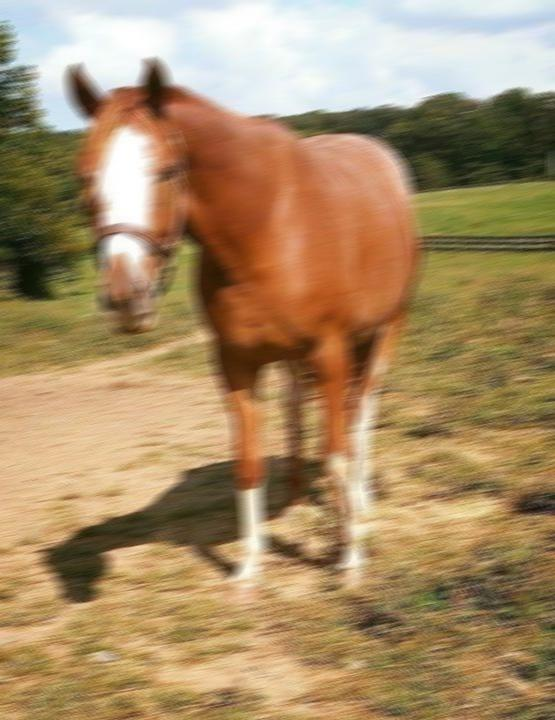horse: (65, 55, 425, 605)
